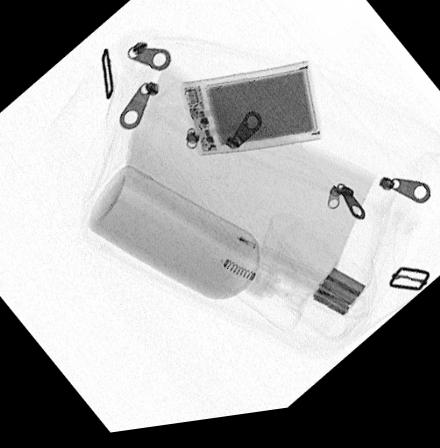Powerbank: (178, 72, 322, 163)
